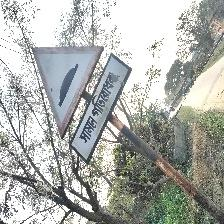Speed-breaker: (32, 45, 133, 164)
